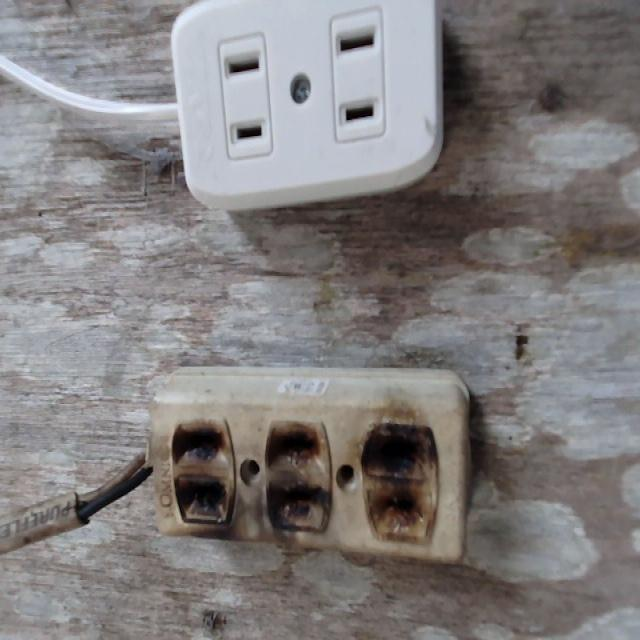-: (157, 416, 445, 564)
